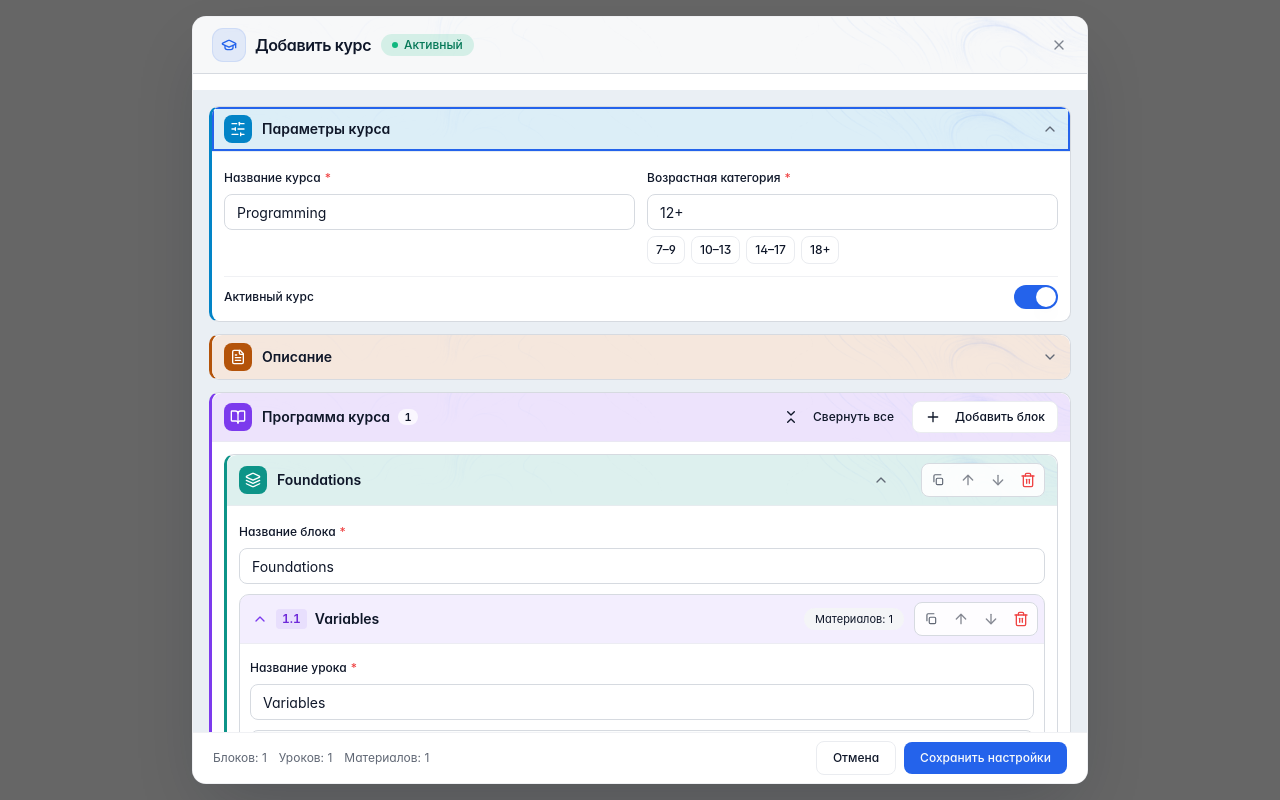
Test case: shows localized nested validation and rejects unsafe material URLs
Step 1. Click the button "Сохранить настройки" → click(986, 758), box [904,742,1067,774]
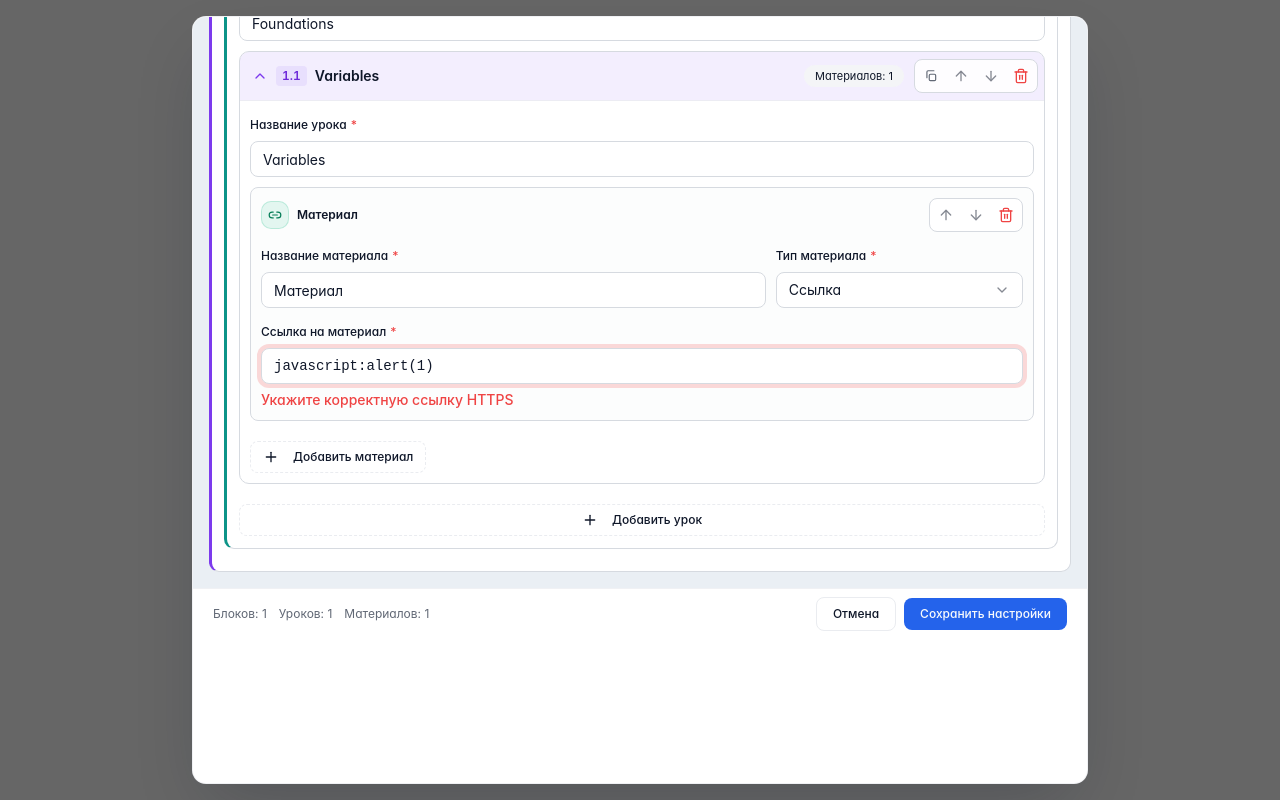
Expected: the text "Укажите корректную ссылку HTTPS" is shown, [261,391,513,408]
